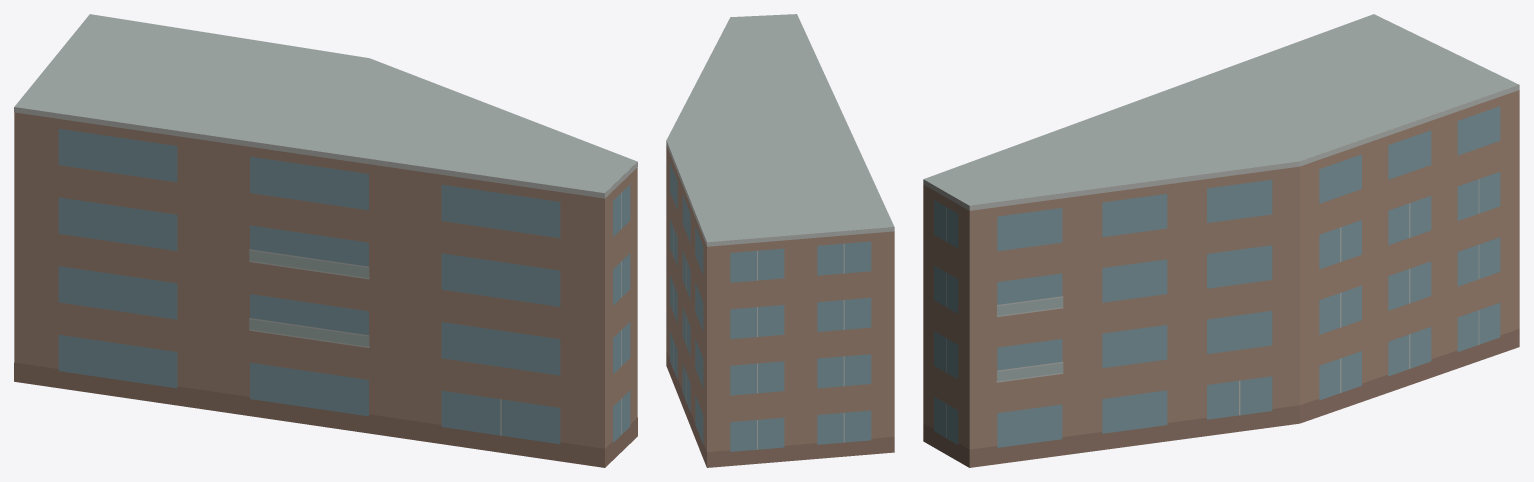
File: survey-upis-32623709.glb
3 renders of one model, left to right at view 1: azimuth 30°, elevation 25°; view 2: azimuth 150°, elevation 25°; view 3: azimuth 270°, elevation 25°, orthographic. The views are drawn at different scales.
Parts seen in each view (by area): view 1: survey-upis-32623709.tmp; view 2: survey-upis-32623709.tmp; view 3: survey-upis-32623709.tmp.
Part boxes in pixels (x1=…): survey-upis-32623709.tmp: x1=14, y1=14, x2=637, y2=467; survey-upis-32623709.tmp: x1=666, y1=14, x2=894, y2=467; survey-upis-32623709.tmp: x1=923, y1=14, x2=1519, y2=467.
Size of the model in its own units: 19.62 by 12.5 by 25.78.
